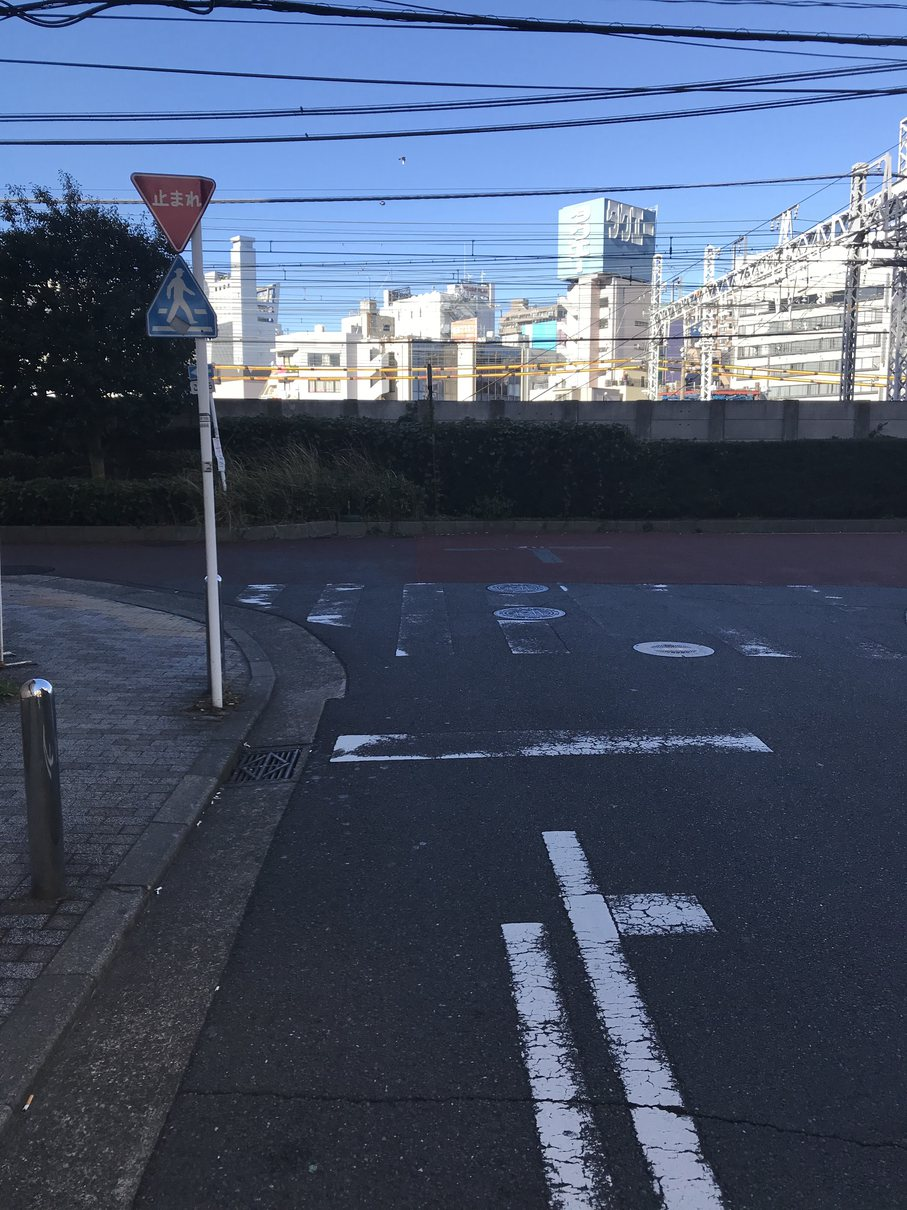stop_sign: (128, 166, 218, 254)
